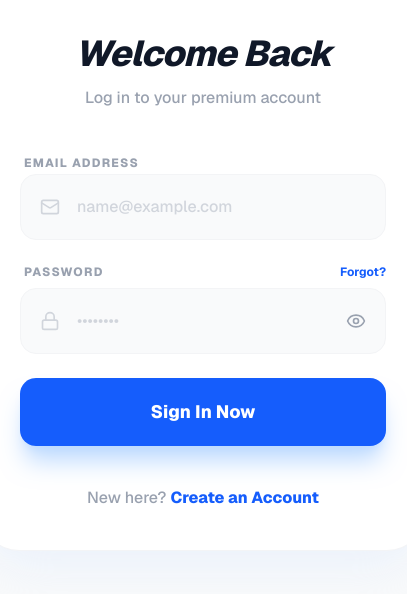
LoginPage › debe mostrar errores de validación si los campos están vacíos
Click the button "Sign In Now" at (203, 412), box [20,378,386,446]
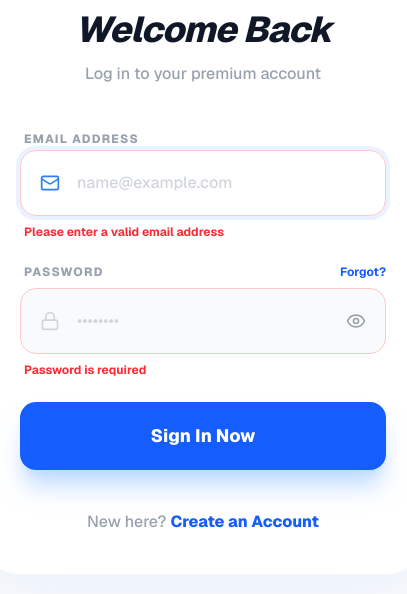
Expected: the text "Please enter a valid email address" is shown, [24,224,224,240]
Expected: the text "Password is required" is shown, [24,362,146,378]
